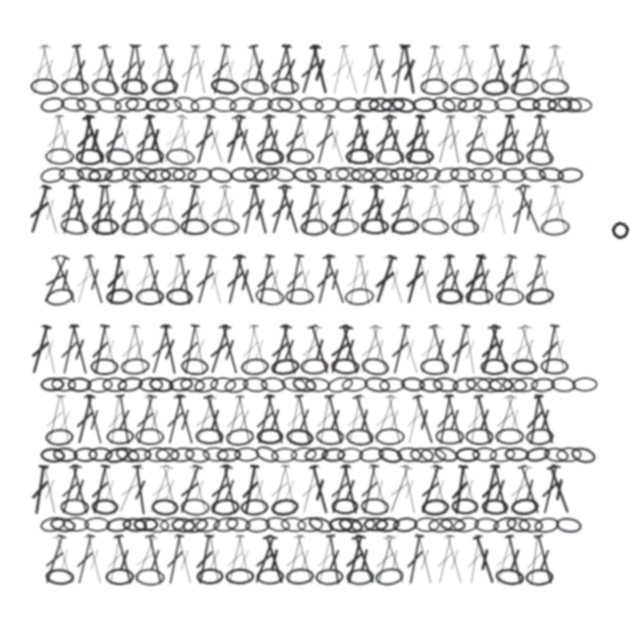chain: (44, 286, 76, 308), (254, 286, 286, 307), (90, 76, 120, 98), (209, 76, 240, 97), (104, 146, 135, 167), (59, 216, 90, 237), (524, 286, 555, 307), (374, 566, 405, 587), (253, 443, 281, 466), (306, 514, 335, 536), (360, 356, 390, 377), (509, 77, 540, 97), (329, 217, 360, 237), (494, 567, 525, 587), (172, 94, 201, 115), (252, 164, 281, 185), (150, 77, 180, 97), (240, 77, 270, 97), (165, 147, 195, 167), (270, 357, 300, 377), (225, 427, 255, 447), (344, 287, 375, 306), (430, 94, 458, 115), (192, 374, 220, 395), (326, 374, 354, 395), (432, 444, 460, 465), (491, 514, 519, 535), (525, 147, 554, 167), (285, 427, 314, 447), (270, 497, 299, 517), (60, 77, 90, 96), (270, 77, 300, 96), (465, 147, 495, 166), (120, 217, 150, 236), (390, 217, 420, 236), (420, 217, 450, 236), (120, 357, 150, 376), (240, 357, 270, 376), (330, 357, 360, 376), (315, 427, 345, 446), (360, 497, 390, 516), (285, 567, 315, 586), (276, 95, 304, 115), (103, 165, 131, 185), (433, 165, 461, 185), (376, 445, 404, 465), (569, 445, 597, 465), (120, 77, 149, 96), (105, 287, 134, 306), (165, 287, 194, 306), (180, 357, 209, 376), (525, 427, 554, 446), (510, 497, 539, 516), (75, 95, 102, 115), (247, 95, 274, 115), (390, 95, 417, 115), (39, 165, 66, 185), (207, 165, 234, 185), (210, 218, 240, 236), (540, 218, 570, 236), (223, 375, 250, 395), (103, 445, 130, 465), (114, 445, 141, 465), (180, 498, 210, 516), (210, 498, 240, 516), (337, 515, 364, 535), (135, 568, 165, 586), (228, 95, 256, 114), (414, 165, 442, 184), (537, 165, 565, 184), (116, 375, 144, 394), (280, 375, 308, 394), (363, 375, 391, 394), (212, 515, 240, 534), (452, 515, 480, 534), (540, 78, 569, 96), (300, 218, 329, 236), (510, 358, 539, 376), (45, 428, 74, 446), (345, 428, 374, 446), (60, 498, 89, 516), (240, 498, 269, 516), (45, 568, 74, 586), (315, 568, 344, 586), (525, 568, 554, 586), (39, 95, 66, 114), (113, 95, 140, 114), (189, 95, 216, 114), (456, 95, 483, 114), (556, 95, 583, 114), (75, 165, 102, 184), (269, 165, 296, 184), (291, 375, 318, 394), (303, 445, 330, 464), (524, 445, 551, 464), (39, 515, 66, 534), (194, 515, 221, 534), (264, 515, 291, 534), (505, 515, 532, 534), (150, 218, 180, 235), (375, 428, 405, 445), (481, 78, 509, 96), (361, 166, 389, 184), (451, 218, 479, 236), (91, 498, 119, 516), (151, 498, 179, 516), (421, 498, 449, 516), (481, 498, 509, 516), (181, 516, 209, 534), (346, 568, 374, 586), (30, 78, 59, 95), (420, 78, 449, 95), (450, 78, 479, 95), (45, 148, 74, 165), (75, 148, 104, 165), (135, 148, 164, 165), (255, 148, 284, 165), (345, 148, 374, 165), (375, 148, 404, 165), (405, 148, 434, 165), (495, 148, 524, 165), (180, 218, 209, 235), (360, 218, 389, 235), (135, 288, 164, 305), (285, 288, 314, 305), (465, 288, 494, 305), (495, 288, 524, 305), (90, 358, 119, 375), (300, 358, 329, 375), (420, 358, 449, 375), (480, 358, 509, 375), (540, 358, 569, 375), (135, 428, 164, 445), (195, 428, 224, 445), (435, 428, 464, 445), (465, 428, 494, 445), (495, 428, 524, 445), (105, 568, 134, 585), (225, 568, 254, 585), (95, 96, 122, 114), (121, 166, 148, 184), (186, 166, 213, 184), (451, 376, 478, 394), (476, 376, 503, 394), (184, 446, 211, 464), (420, 446, 447, 464), (49, 516, 76, 534), (105, 516, 132, 534), (533, 516, 560, 534), (555, 516, 582, 534), (286, 148, 314, 165), (91, 218, 119, 235), (436, 288, 464, 305), (106, 428, 134, 445), (256, 428, 284, 445), (331, 498, 359, 515), (451, 498, 479, 515), (196, 568, 224, 585), (256, 568, 284, 585), (314, 96, 340, 114), (87, 166, 113, 184), (292, 166, 318, 184), (409, 446, 435, 464), (543, 446, 569, 464), (60, 96, 87, 113), (210, 96, 237, 113), (58, 166, 85, 183), (243, 166, 270, 183), (324, 166, 351, 183), (335, 166, 362, 183), (449, 166, 476, 183), (520, 166, 547, 183), (341, 376, 368, 393), (432, 376, 459, 393), (465, 376, 492, 393), (512, 376, 539, 393), (202, 446, 229, 463), (290, 446, 317, 463), (358, 446, 385, 463), (489, 446, 516, 463), (159, 516, 186, 533), (280, 516, 307, 533), (439, 516, 466, 533), (298, 96, 324, 113), (354, 96, 380, 113), (132, 166, 158, 183), (306, 166, 332, 183), (148, 376, 174, 393), (168, 376, 194, 393), (242, 376, 268, 393), (260, 376, 286, 393), (400, 376, 426, 393), (550, 376, 576, 393), (52, 446, 78, 463), (169, 446, 195, 463), (396, 446, 422, 463), (225, 516, 251, 533), (350, 516, 376, 533), (374, 516, 400, 533), (392, 516, 418, 533), (335, 97, 362, 113), (467, 167, 494, 183), (86, 377, 113, 393), (179, 377, 206, 393), (156, 97, 182, 113), (473, 97, 499, 113), (373, 167, 399, 183), (481, 167, 507, 183), (557, 167, 583, 183), (379, 377, 405, 393), (418, 377, 444, 393), (530, 377, 556, 393), (271, 447, 297, 463), (337, 447, 363, 463), (143, 517, 169, 533), (145, 97, 170, 113), (380, 97, 405, 113), (567, 97, 592, 113), (146, 167, 171, 183), (350, 167, 375, 183), (502, 167, 527, 183), (305, 377, 330, 393), (502, 377, 527, 393), (40, 447, 65, 463), (127, 447, 152, 463), (216, 447, 241, 463), (321, 447, 346, 463), (122, 517, 147, 533), (171, 517, 196, 533), (245, 517, 270, 533), (428, 517, 453, 533), (474, 517, 499, 533), (518, 517, 543, 533), (267, 97, 293, 112), (494, 97, 520, 112), (160, 167, 186, 182), (230, 167, 256, 182), (403, 167, 429, 182), (210, 377, 236, 392), (572, 377, 598, 392), (144, 447, 170, 462), (556, 447, 582, 462), (63, 517, 89, 532), (84, 517, 110, 532), (297, 517, 323, 532), (414, 517, 440, 532), (125, 97, 150, 112), (368, 97, 393, 112), (412, 97, 437, 112), (442, 97, 467, 112), (516, 97, 541, 112), (532, 97, 557, 112), (547, 97, 572, 112), (172, 167, 197, 182), (389, 167, 414, 182), (40, 377, 65, 392), (51, 377, 76, 392), (67, 377, 92, 392), (102, 377, 127, 392), (138, 377, 163, 392), (488, 377, 513, 392), (73, 447, 98, 462), (88, 447, 113, 462), (155, 447, 180, 462), (234, 447, 259, 462), (455, 447, 480, 462), (472, 447, 497, 462), (504, 447, 529, 462), (133, 517, 158, 532), (328, 517, 353, 532), (363, 517, 388, 532)
double: (37, 253, 73, 306), (157, 113, 192, 166), (512, 183, 547, 236), (112, 463, 147, 516), (48, 253, 82, 306), (143, 463, 177, 516), (128, 533, 162, 586), (228, 113, 261, 166), (368, 393, 401, 446), (173, 463, 206, 516), (383, 463, 416, 516), (503, 463, 536, 516), (543, 463, 576, 516), (248, 533, 281, 586), (348, 533, 381, 586), (79, 113, 111, 166), (109, 113, 141, 166), (319, 113, 351, 166), (379, 113, 411, 166), (154, 183, 186, 236), (354, 183, 386, 236), (384, 183, 416, 236), (229, 253, 261, 306), (319, 253, 351, 306), (369, 253, 401, 306), (294, 323, 326, 376), (324, 323, 356, 376), (354, 323, 386, 376), (489, 393, 521, 446), (204, 463, 236, 516), (414, 463, 446, 516), (514, 463, 546, 516), (379, 533, 411, 586), (469, 533, 501, 586), (534, 43, 565, 96), (99, 113, 130, 166), (199, 113, 230, 166), (259, 113, 290, 166), (279, 113, 310, 166), (369, 113, 400, 166), (459, 113, 490, 166), (469, 113, 500, 166), (24, 183, 55, 236), (144, 183, 175, 236), (274, 183, 305, 236), (474, 183, 505, 236), (534, 183, 565, 236), (109, 253, 140, 306), (459, 253, 490, 306), (204, 323, 235, 376), (304, 323, 335, 376), (414, 323, 445, 376), (484, 323, 515, 376), (504, 323, 535, 376), (514, 323, 545, 376), (189, 393, 220, 446), (349, 393, 380, 446), (409, 393, 440, 446), (364, 463, 395, 516), (454, 463, 485, 516), (39, 533, 70, 586), (49, 533, 80, 586), (259, 533, 290, 586), (55, 43, 85, 96), (85, 43, 115, 96), (95, 43, 125, 96), (265, 43, 295, 96), (295, 43, 325, 96), (335, 43, 365, 96), (545, 43, 575, 96), (50, 113, 80, 166), (140, 113, 170, 166), (220, 113, 250, 166), (530, 113, 560, 166), (35, 183, 65, 236), (125, 183, 155, 236), (205, 183, 235, 236), (265, 183, 295, 236), (325, 183, 355, 236), (415, 183, 445, 236), (70, 253, 100, 306), (80, 253, 110, 306), (190, 253, 220, 306), (260, 253, 290, 306), (380, 253, 410, 306), (440, 253, 470, 306), (490, 253, 520, 306), (25, 323, 55, 376), (145, 323, 175, 376), (265, 323, 295, 376), (335, 323, 365, 376), (365, 323, 395, 376), (395, 323, 425, 376), (425, 323, 455, 376), (475, 323, 505, 376), (130, 393, 160, 446), (170, 393, 200, 446), (200, 393, 230, 446), (260, 393, 290, 446), (500, 393, 530, 446), (530, 393, 560, 446), (55, 463, 85, 516), (65, 463, 95, 516), (305, 463, 335, 516), (325, 463, 355, 516), (290, 533, 320, 586), (370, 533, 400, 586), (35, 43, 64, 96), (155, 43, 184, 96), (245, 43, 274, 96), (365, 43, 394, 96), (425, 43, 454, 96), (445, 43, 474, 96), (455, 43, 484, 96), (475, 43, 504, 96), (505, 43, 534, 96), (515, 43, 544, 96), (190, 113, 219, 166), (310, 113, 339, 166), (350, 113, 379, 166), (400, 113, 429, 166), (520, 113, 549, 166), (65, 183, 94, 236), (115, 183, 144, 236), (215, 183, 244, 236), (425, 183, 454, 236), (130, 253, 159, 306), (140, 253, 169, 306), (200, 253, 229, 306), (400, 253, 429, 306), (500, 253, 529, 306), (520, 253, 549, 306), (530, 253, 559, 306), (65, 323, 94, 376), (115, 323, 144, 376), (215, 323, 244, 376), (245, 323, 274, 376), (80, 393, 109, 446), (140, 393, 169, 446), (220, 393, 249, 446), (440, 393, 469, 446), (470, 393, 499, 446), (185, 463, 214, 516), (245, 463, 274, 516), (265, 463, 294, 516), (295, 463, 324, 516), (80, 533, 109, 586), (110, 533, 139, 586), (170, 533, 199, 586), (280, 533, 309, 586), (340, 533, 369, 586), (440, 533, 469, 586), (490, 533, 519, 586), (530, 533, 559, 586), (26, 43, 54, 96), (176, 43, 204, 96), (206, 43, 234, 96), (216, 43, 244, 96), (306, 43, 334, 96), (356, 43, 384, 96), (416, 43, 444, 96), (486, 43, 514, 96), (131, 113, 159, 166), (251, 113, 279, 166), (341, 113, 369, 166), (431, 113, 459, 166), (56, 183, 84, 236), (186, 183, 214, 236), (246, 183, 274, 236), (296, 183, 324, 236), (336, 183, 364, 236), (396, 183, 424, 236), (456, 183, 484, 236), (506, 183, 534, 236), (546, 183, 574, 236), (221, 253, 249, 306), (291, 253, 319, 306), (311, 253, 339, 306), (411, 253, 439, 306), (431, 253, 459, 306), (96, 323, 124, 376), (386, 323, 414, 376), (446, 323, 474, 376), (71, 393, 99, 446), (161, 393, 189, 446), (251, 393, 279, 446), (321, 393, 349, 446), (341, 393, 369, 446), (86, 463, 114, 516), (96, 463, 124, 516), (156, 463, 184, 516), (336, 463, 364, 516), (426, 463, 454, 516), (476, 463, 504, 516), (486, 463, 514, 516), (536, 463, 564, 516), (71, 533, 99, 586), (141, 533, 169, 586), (221, 533, 249, 586), (311, 533, 339, 586), (411, 533, 439, 586), (431, 533, 459, 586), (501, 533, 529, 586), (146, 43, 173, 96), (326, 43, 353, 96), (41, 113, 68, 166), (291, 113, 318, 166), (411, 113, 438, 166), (491, 113, 518, 166), (501, 113, 528, 166), (176, 183, 203, 236), (366, 183, 393, 236), (486, 183, 513, 236), (36, 323, 63, 376), (56, 323, 83, 376), (126, 323, 153, 376), (156, 323, 183, 376), (276, 323, 303, 376), (546, 323, 573, 376), (41, 393, 68, 446), (231, 393, 258, 446), (291, 393, 318, 446), (381, 393, 408, 446), (401, 393, 428, 446), (36, 463, 63, 516), (216, 463, 243, 516), (356, 463, 383, 516), (396, 463, 423, 516), (231, 533, 258, 586), (187, 43, 213, 96), (237, 43, 263, 96), (72, 113, 98, 166), (172, 113, 198, 166), (237, 183, 263, 236), (102, 253, 128, 306), (162, 253, 188, 306), (172, 253, 198, 306), (252, 253, 278, 306), (342, 253, 368, 306), (87, 323, 113, 376), (177, 323, 203, 376), (237, 323, 263, 376), (537, 323, 563, 376), (432, 393, 458, 446), (237, 463, 263, 516), (277, 463, 303, 516), (102, 533, 128, 586), (162, 533, 188, 586), (402, 533, 428, 586), (117, 43, 142, 96), (387, 43, 412, 96), (397, 43, 422, 96), (442, 113, 467, 166), (307, 183, 332, 236), (282, 253, 307, 306), (352, 253, 377, 306), (472, 253, 497, 306), (187, 323, 212, 376), (112, 393, 137, 446), (282, 393, 307, 446), (312, 393, 337, 446), (192, 533, 217, 586), (202, 533, 227, 586), (322, 533, 347, 586), (68, 43, 92, 96), (278, 43, 302, 96), (448, 183, 472, 236), (458, 323, 482, 376), (523, 393, 547, 446), (463, 533, 487, 586), (88, 184, 112, 236), (53, 394, 77, 446), (103, 394, 127, 446), (463, 394, 487, 446), (28, 464, 52, 516), (128, 464, 152, 516), (448, 464, 472, 516), (128, 44, 151, 96), (98, 184, 121, 236), (523, 534, 546, 586)
noise: (609, 219, 631, 241)
